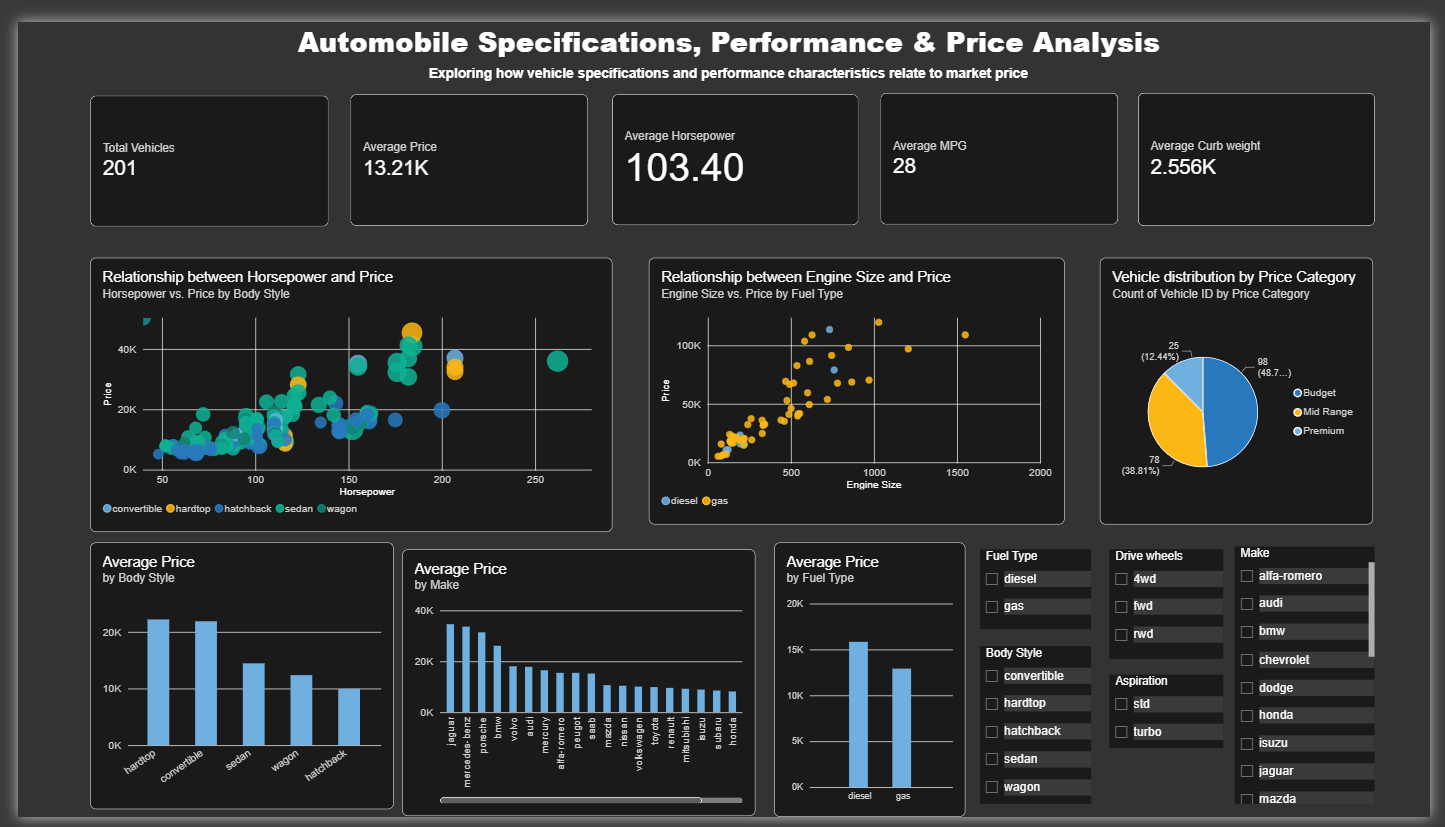

What the dashboard file says about the page in this screenshot:
{"tool":"powerbi","page":{"name":"Automobile Overview","canvas":[1920,1080],"ordinal":0},"visuals":[{"type":"textbox","box":[10.4,0,1910.4,70.8],"z":0},{"type":"cardVisual","fields":{"Data":["Automobile.Total Vehicles"]},"box":[97.5,100,324.4,178],"z":1000},{"type":"cardVisual","fields":{"Data":["Automobile.Average Price"]},"box":[452.5,97.5,323.8,179.2],"z":2000},{"type":"cardVisual","fields":{"Data":["Automobile.Average Horsepower"]},"box":[807.5,97.5,335.4,178.5],"z":3000},{"type":"cardVisual","fields":{"Data":["Automobile.Average_MPG"]},"box":[1171.4,97.1,323.1,179.2],"z":4000},{"type":"clusteredColumnChart","fields":{"Category":["Automobile.Make"],"Y":["Automobile.Average Price"]},"box":[522.5,717.5,480,362.5],"z":5000},{"type":"scatterChart","title":"Relationship between Engine Size and Price","fields":{"Category":["Automobile.Horsepower"],"Series":["Automobile.Fuel Type"],"X":["Sum(Automobile.Engine size)"],"Y":["Sum(Automobile.Price)"]},"box":[857.5,320,565,362.5],"z":6000},{"type":"scatterChart","title":"Relationship between Horsepower and Price","fields":{"Series":["Automobile.Body Style"],"Size":["Sum(Automobile.Engine size)"],"X":["Automobile.Horsepower"],"Y":["Automobile.Price"]},"box":[97.5,320,710,372.5],"z":7000},{"type":"clusteredColumnChart","fields":{"Category":["Automobile.Body Style"],"Y":["Automobile.Average Price"]},"box":[97.5,707.5,412.5,362.5],"z":8000},{"type":"clusteredColumnChart","fields":{"Category":["Automobile.Fuel Type"],"Y":["Automobile.Average Price"]},"box":[1027.5,707.5,260,372.5],"z":9000},{"type":"slicer","fields":{"Values":["Automobile.Make"]},"box":[1653.8,712.5,190,350],"z":10000},{"type":"slicer","fields":{"Values":["Automobile.Fuel Type"]},"box":[1307.5,717.5,151.1,108.9],"z":11000},{"type":"slicer","fields":{"Values":["Automobile.Body Style"]},"box":[1307.5,848.8,151,214],"z":12000},{"type":"slicer","fields":{"Values":["Automobile.Drive wheels"]},"box":[1482.5,717.5,155,148.8],"z":13000},{"type":"slicer","fields":{"Values":["Automobile.Aspiration"]},"box":[1482.5,887.5,155,100],"z":14000},{"type":"cardVisual","fields":{"Data":["Avg(Automobile.Curb weight)"]},"box":[1521.4,97.1,322.9,181.4],"z":15000},{"type":"pieChart","title":"Vehicle distribution by Price Category","fields":{"Category":["Automobile.Price Category"],"Y":["CountNonNull(Automobile.Vehicle ID)"]},"box":[1470,320,371.2,362.5],"z":16000},{"type":"textbox","box":[522.5,58.8,886.2,30],"z":17000}]}

Visuals, with their boxes in screenshot pixels (x1, y1, x2, y2), scaled from the page's 1920x1080 canvas onto the 1445x827 screenshot:
textbox: pyautogui.locateOnScreen(8, 0, 1444, 54)
cardVisual - Automobile.Total Vehicles: pyautogui.locateOnScreen(73, 77, 318, 213)
cardVisual - Automobile.Average Price: pyautogui.locateOnScreen(341, 75, 584, 212)
cardVisual - Automobile.Average Horsepower: pyautogui.locateOnScreen(608, 75, 860, 211)
cardVisual - Automobile.Average_MPG: pyautogui.locateOnScreen(882, 74, 1125, 212)
clusteredColumnChart - Automobile.Make x Automobile.Average Price: pyautogui.locateOnScreen(393, 549, 754, 826)
"Relationship between Engine Size and Price" scatterChart: pyautogui.locateOnScreen(645, 245, 1071, 523)
"Relationship between Horsepower and Price" scatterChart: pyautogui.locateOnScreen(73, 245, 608, 530)
clusteredColumnChart - Automobile.Body Style x Automobile.Average Price: pyautogui.locateOnScreen(73, 542, 384, 819)
clusteredColumnChart - Automobile.Fuel Type x Automobile.Average Price: pyautogui.locateOnScreen(773, 542, 969, 826)
slicer - Automobile.Make: pyautogui.locateOnScreen(1245, 546, 1388, 814)
slicer - Automobile.Fuel Type: pyautogui.locateOnScreen(984, 549, 1098, 633)
slicer - Automobile.Body Style: pyautogui.locateOnScreen(984, 650, 1098, 814)
slicer - Automobile.Drive wheels: pyautogui.locateOnScreen(1116, 549, 1232, 663)
slicer - Automobile.Aspiration: pyautogui.locateOnScreen(1116, 680, 1232, 756)
cardVisual - Avg(Automobile.Curb weight): pyautogui.locateOnScreen(1145, 74, 1388, 213)
"Vehicle distribution by Price Category" pieChart: pyautogui.locateOnScreen(1106, 245, 1386, 523)
textbox: pyautogui.locateOnScreen(393, 45, 1060, 68)
